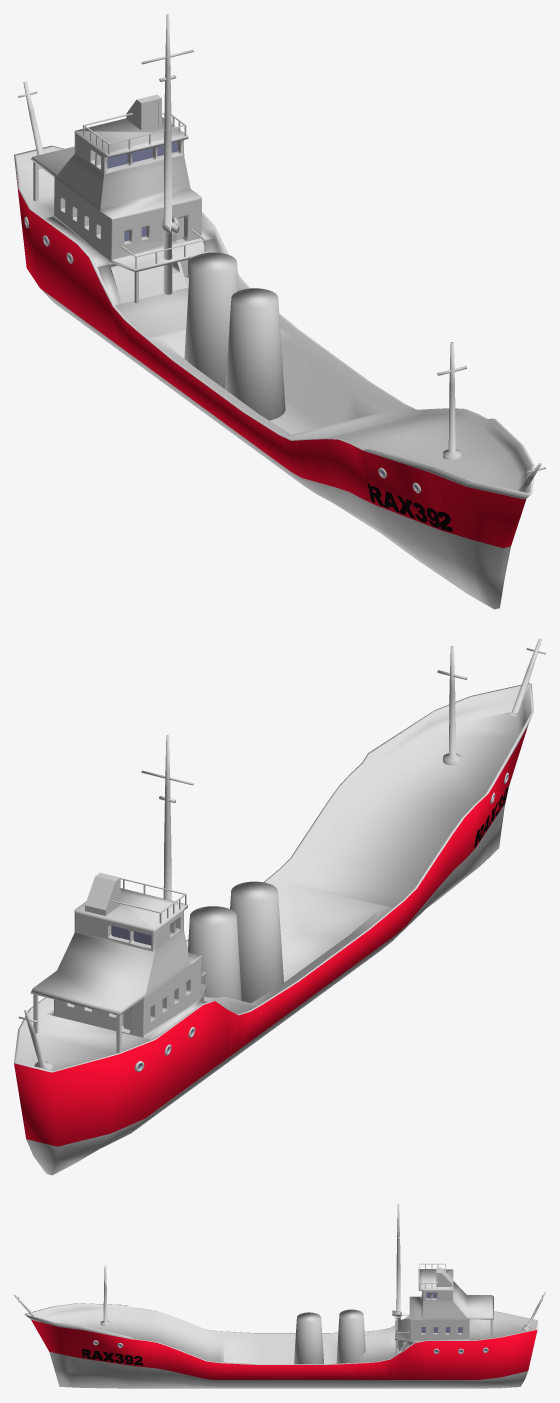
Rendered from D3_Ship1.glb.
The picture shows the model from 3 angles, top to bottom: view 1: azimuth 30°, elevation 25°; view 2: azimuth 150°, elevation 25°; view 3: azimuth 270°, elevation 25°; orthographic projection. The views are drawn at different scales.
Parts seen in each view (by area): view 1: Object_6, Object_2, Cylinder, Text.002, Object_4; view 2: Object_6, Object_2, Cylinder; view 3: Object_6, Object_2, Cylinder, Text.
Boxes of the visible parts, <box> form: Object_6: <box>14,14,545,609</box>; Object_2: <box>15,164,526,548</box>; Cylinder: <box>184,252,285,420</box>; Text.002: <box>367,483,452,531</box>; Object_4: <box>26,141,418,490</box>; Object_6: <box>14,638,545,1175</box>; Object_2: <box>14,726,527,1146</box>; Cylinder: <box>188,881,283,1002</box>; Object_6: <box>14,1204,545,1388</box>; Object_2: <box>31,1319,537,1379</box>; Cylinder: <box>294,1309,365,1364</box>; Text: <box>82,1349,142,1365</box>.
Bounding box in the file's own units: 6.14 × 16.34 × 43.39.
